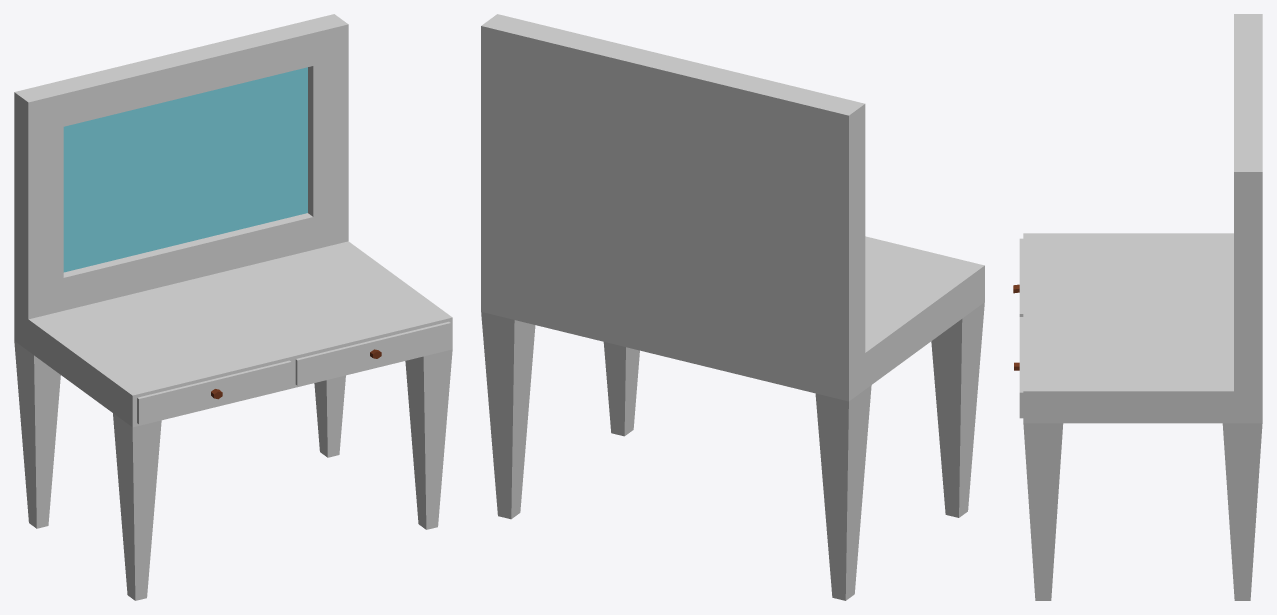
Rendered from Commode2.fbx.
The picture shows the model from 3 angles, left to right: view 1: azimuth 30°, elevation 25°; view 2: azimuth 150°, elevation 25°; view 3: azimuth 270°, elevation 25°; orthographic projection. The views are drawn at different scales.
Visible parts, largest first — view 1: coiffeuse; view 2: coiffeuse; view 3: coiffeuse.
Boxes of the visible parts, left/top/right/bottom form: coiffeuse: left=14, top=14, right=452, bottom=600; coiffeuse: left=481, top=14, right=984, bottom=600; coiffeuse: left=1013, top=14, right=1262, bottom=600.
Size of the model in its own units: 300 by 384 by 200.
